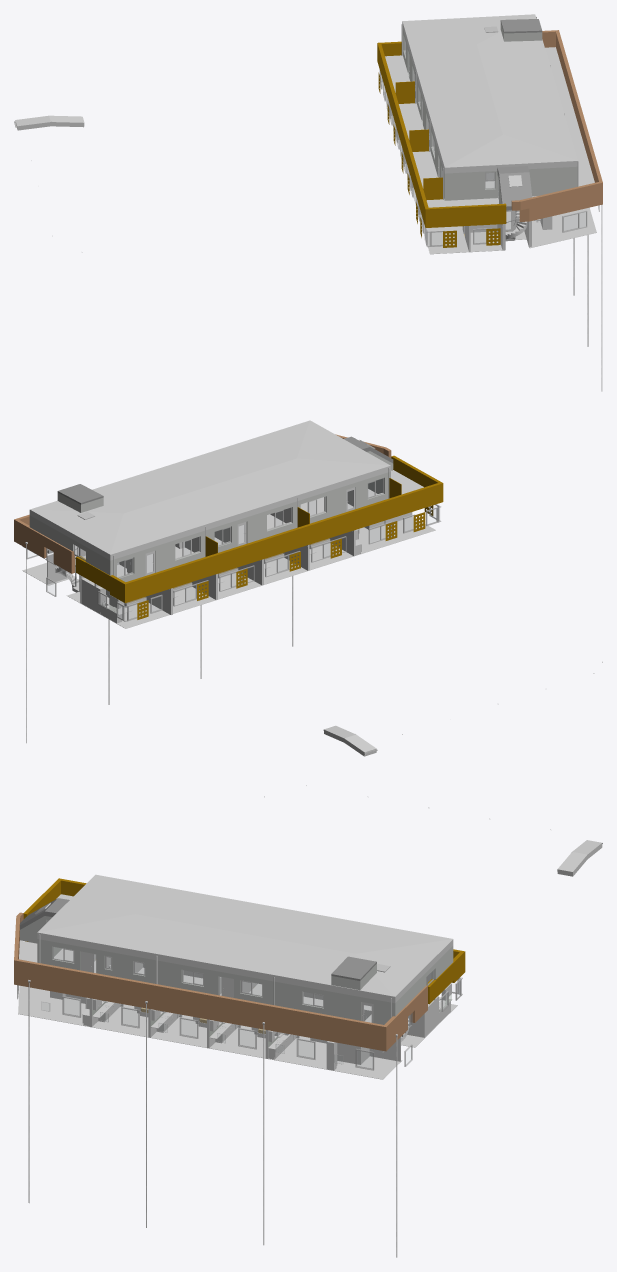
3 renders of one model, top to bottom at view 1: azimuth 30°, elevation 25°; view 2: azimuth 150°, elevation 25°; view 3: azimuth 270°, elevation 25°, orthographic. The views are drawn at different scales.
Visible parts, largest first — view 1: 0BXlfU$BX5Z87ZsguDhnhg, 04La4n82v9yPXE9fOE4DBE, 3KakoYsF977QbcQDIxBoae, 0JkEJHp0f7qgjeyrC9bOXD, 0JkEJHp0f7qgjeyrC9bOX3, 2mzHsYMGD3NBcWqyfHMwYe, 1qHhfr7Ib9VOSuGMKT04uM, 0SxKByILX68wM6KovnN2Gj, 1prtGiGCjFIxh9RQwzzuV4, 1prtGiGCjFIxh9RQwzzuVv, 1SqIX1NHr4y9r21BrJULLV, 2Bx2_CSv99ZPGE7JRJgvng (+2 smaller); view 2: 0BXlfU$BX5Z87ZsguDhnhg, 1qHhfr7Ib9VOSuGMKT04uM, 1SqIX1NHr4y9r21BrJULLV, 04La4n82v9yPXE9fOE4DBE, 3KakoYsF977QbcQDIxBowg, 3bXTBy8A53VgLh0IqEdtuS, 1UFF45OBv5i980EvCjx6mY, 0JkEJHp0f7qgjeyrC9bOX3, 1t$UBPnOT9oODejaWKX4L2, 3GwS09EQj2jeGRN3vX4BWN, 0zqVPHFrn4mgRnT7G58sUJ; view 3: 0BXlfU$BX5Z87ZsguDhnhg, 0SxKByILX68wM6KovnN2Gj, 04La4n82v9yPXE9fOE4DBE, 08EHDjqBfAOwT4bHvRCmx8, 3bXTBy8A53VgLh0IqEdtuS, 1UFF45OBv5i980EvCjx6mY, 0zqVPHFrn4mgRnT7G58sUJ, 3KakoYsF977QbcQDIxBowg.
Boxes of the visible parts, x1,y1,x2,y2 form: 0BXlfU$BX5Z87ZsguDhnhg: (402, 14, 577, 173); 04La4n82v9yPXE9fOE4DBE: (383, 91, 596, 254); 3KakoYsF977QbcQDIxBoae: (385, 55, 498, 207); 0JkEJHp0f7qgjeyrC9bOXD: (519, 182, 599, 221); 0JkEJHp0f7qgjeyrC9bOX3: (425, 203, 506, 227); 2mzHsYMGD3NBcWqyfHMwYe: (532, 47, 594, 197); 1qHhfr7Ib9VOSuGMKT04uM: (378, 44, 428, 226); 0SxKByILX68wM6KovnN2Gj: (556, 31, 602, 204); 1prtGiGCjFIxh9RQwzzuV4: (444, 171, 497, 200); 1prtGiGCjFIxh9RQwzzuVv: (529, 166, 577, 195); 1SqIX1NHr4y9r21BrJULLV: (402, 28, 444, 198); 2Bx2_CSv99ZPGE7JRJgvng: (499, 172, 532, 210); 0BXlfU$BX5Z87ZsguDhnhg: (29, 420, 390, 560); 1qHhfr7Ib9VOSuGMKT04uM: (126, 482, 441, 601); 1SqIX1NHr4y9r21BrJULLV: (108, 472, 387, 581); 04La4n82v9yPXE9fOE4DBE: (22, 517, 435, 628); 3KakoYsF977QbcQDIxBowg: (75, 489, 377, 576); 3bXTBy8A53VgLh0IqEdtuS: (28, 527, 74, 573); 1UFF45OBv5i980EvCjx6mY: (323, 725, 376, 756); 0JkEJHp0f7qgjeyrC9bOX3: (391, 455, 443, 502); 1t$UBPnOT9oODejaWKX4L2: (75, 556, 109, 591); 3GwS09EQj2jeGRN3vX4BWN: (29, 515, 74, 553); 0zqVPHFrn4mgRnT7G58sUJ: (57, 484, 103, 504); 0BXlfU$BX5Z87ZsguDhnhg: (37, 874, 453, 1003); 0SxKByILX68wM6KovnN2Gj: (14, 958, 383, 1050); 04La4n82v9yPXE9fOE4DBE: (18, 985, 457, 1079); 08EHDjqBfAOwT4bHvRCmx8: (41, 939, 392, 1024); 3bXTBy8A53VgLh0IqEdtuS: (396, 985, 427, 1039); 1UFF45OBv5i980EvCjx6mY: (557, 840, 602, 876); 0zqVPHFrn4mgRnT7G58sUJ: (331, 956, 376, 980); 3KakoYsF977QbcQDIxBowg: (54, 948, 323, 1006).
Size of the model in its own units: 52.46 by 22.84 by 44.37.
